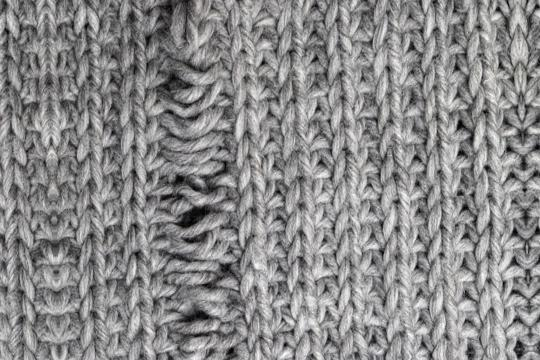slub: (146, 0, 250, 354)
